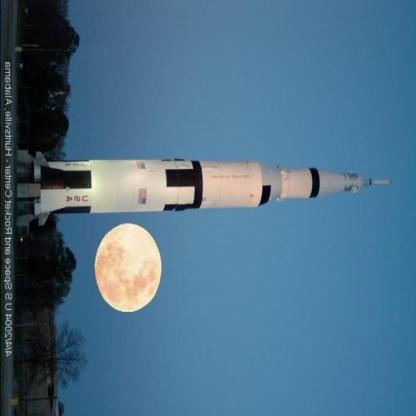MIL_TBM: (16, 159, 401, 213)
